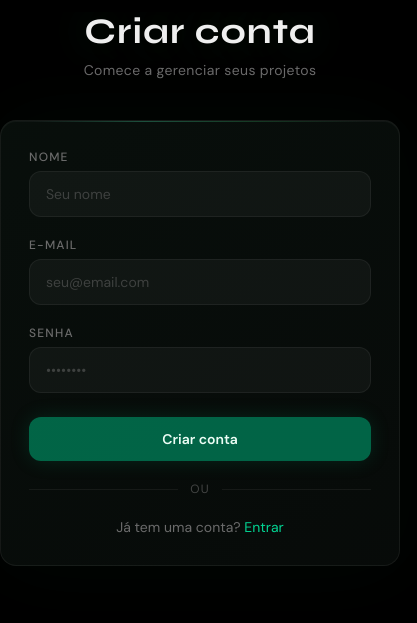
Test: RegisterPage › shows default error when API gives no message
Step 1. Type "Junior Almeida" into the field labelled "Nome" → (200, 194), box [29,171,371,217]
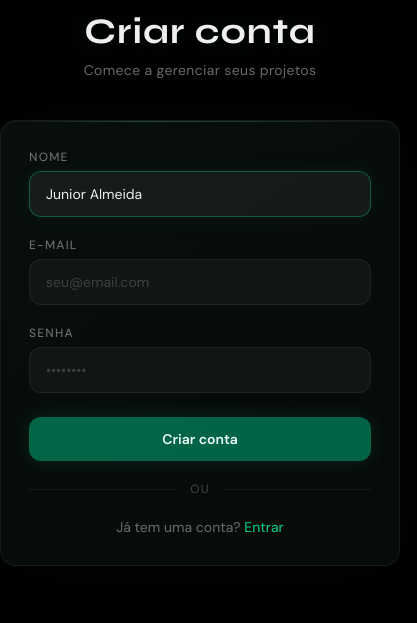
Step 2. Type "junior@email.com" into the field labelled "E-mail" → (200, 282), box [29,259,371,305]
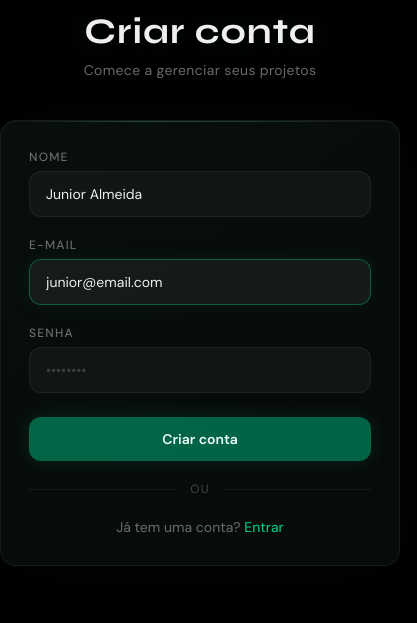
Step 3. Type "Test1234" into the password field labelled "Senha" → (200, 370), box [29,347,371,393]
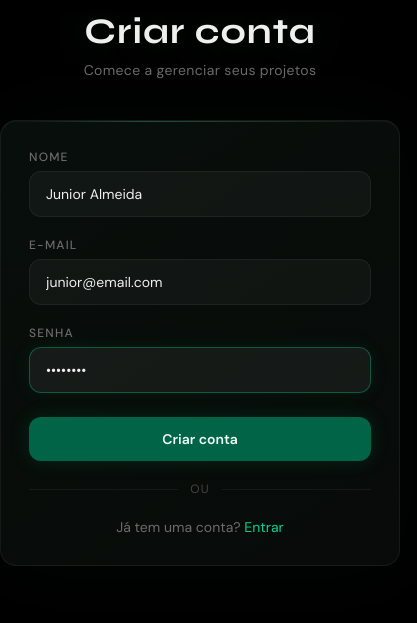
Step 4. Click the button "Criar conta" → (200, 439), box [29,417,371,461]
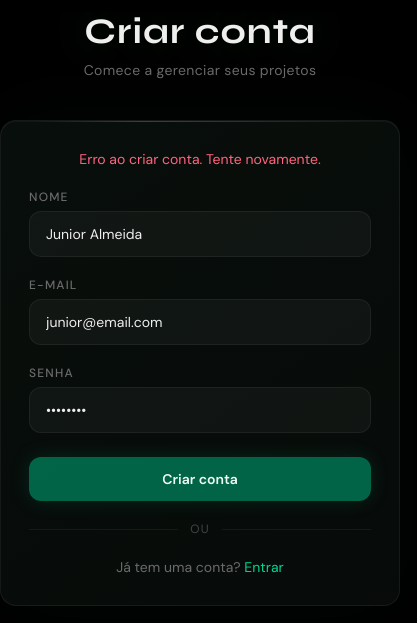
Expected: the text "Erro ao criar conta. Tente novamente." is shown, [79,150,321,168]
